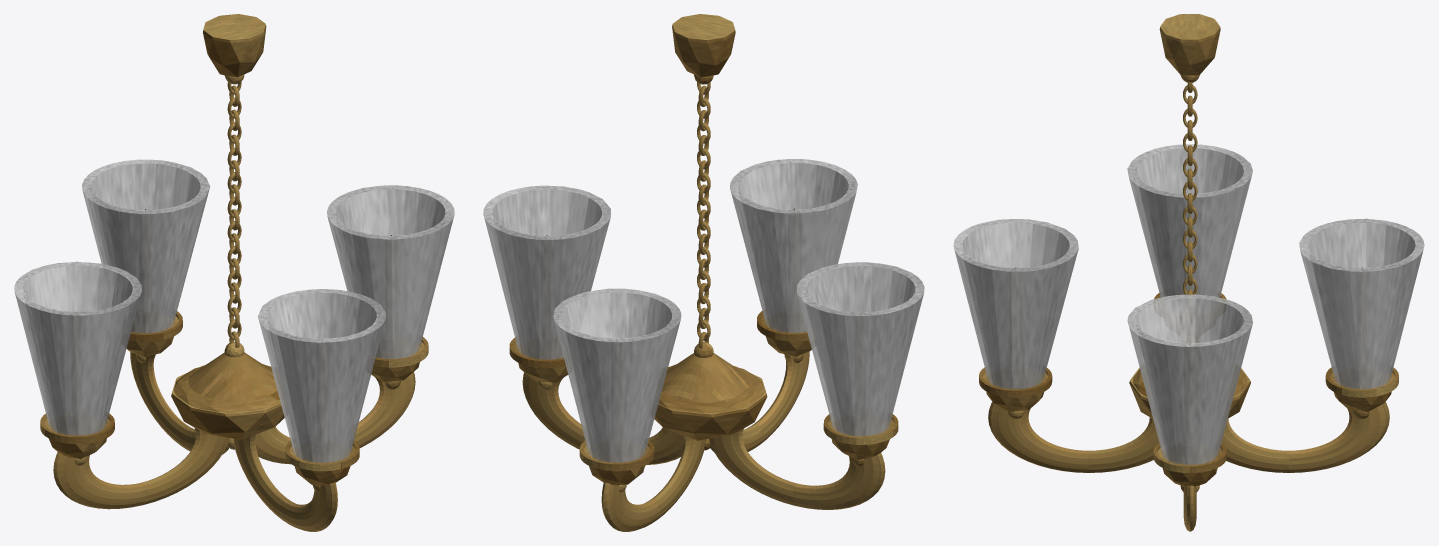
File: chandelier.glb
3 renders of one model, left to right at view 1: azimuth 30°, elevation 25°; view 2: azimuth 150°, elevation 25°; view 3: azimuth 270°, elevation 25°, orthographic. The views are drawn at different scales.
Parts seen in each view (by area): view 1: Cone.003, Cone, Cone.001, Cone.002, Torus, Torus.003, Cone.004, Icosphere.007, Torus.001, Icosphere.005, Torus.002, Icosphere.001 (+8 smaller); view 2: Cone, Cone.002, Cone.001, Cone.003, Torus, Torus.002, Cone.004, Icosphere.007, Torus.001, Icosphere.005, Torus.003, Icosphere.001 (+8 smaller); view 3: Cone.003, Cone.001, Cone.002, Cone, Torus.003, Torus.002, Icosphere.007, Base1.002, Base1.003, Base1.001, Icosphere.005, Icosphere.003 (+3 smaller).
Part boxes in pixels (x1,y1,x2,y2): Cone.003: (258,289,385,462); Cone: (14,261,141,435); Cone.001: (327,185,454,359); Cone.002: (82,159,210,333); Torus: (53,428,229,509); Torus.003: (233,424,337,531); Cone.004: (188,352,277,401); Icosphere.007: (203,14,266,77); Torus.001: (255,372,415,464); Icosphere.005: (171,365,284,439); Torus.002: (130,352,228,454); Icosphere.001: (173,364,280,412); Cone: (797,262,924,436); Cone.002: (553,288,681,462); Cone.001: (483,185,610,359); Cone.003: (730,159,857,333); Torus: (709,428,885,509); Torus.002: (601,435,705,531); Cone.004: (661,353,749,402); Icosphere.007: (672,14,735,77); Torus.001: (522,372,683,464); Icosphere.005: (654,366,767,440); Torus.003: (710,351,809,451); Icosphere.001: (658,364,764,413); Cone.003: (953,219,1078,389); Cone.001: (1127,294,1252,464); Cone.002: (1299,218,1424,389); Cone: (1127,144,1252,297); Torus.003: (988,402,1159,472); Torus.002: (1221,402,1389,472); Icosphere.007: (1159,14,1220,75); Base1.002: (1325,367,1398,397); Base1.003: (979,367,1052,397); Base1.001: (1153,443,1226,473); Icosphere.005: (1129,367,1250,418); Icosphere.003: (1334,391,1391,411).
Size of the model in its own units: 0.1966 by 0.2021 by 0.1931.
Materials: 65 (65 with a texture image).
